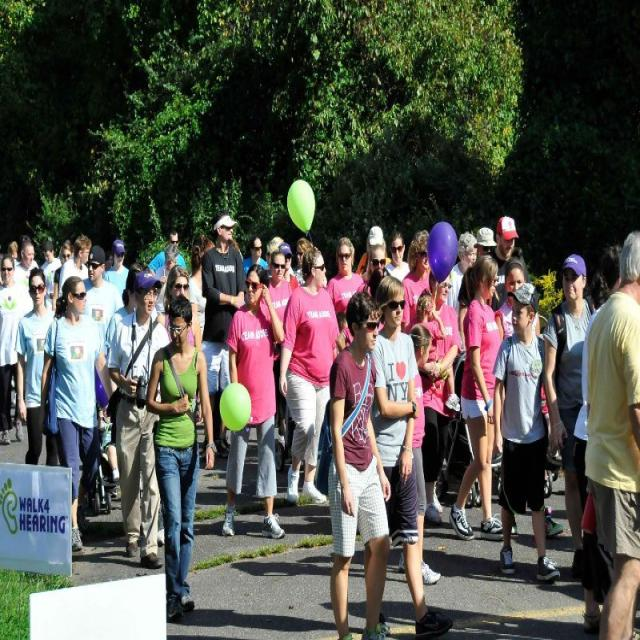body: (0, 485, 639, 640), (364, 275, 454, 639), (314, 288, 394, 640), (144, 293, 218, 622), (35, 272, 121, 554), (584, 228, 640, 640), (490, 278, 563, 590), (102, 265, 176, 570), (570, 241, 625, 640), (493, 243, 565, 539), (219, 258, 289, 542), (446, 251, 512, 546), (541, 253, 600, 582), (275, 240, 343, 506), (2, 222, 135, 318), (397, 322, 444, 587), (200, 209, 248, 458), (419, 265, 462, 527), (201, 387, 320, 476), (39, 372, 122, 496), (12, 265, 60, 470), (178, 211, 248, 314), (259, 214, 335, 302), (266, 249, 295, 458), (0, 250, 30, 446), (416, 287, 462, 413), (457, 225, 498, 352), (84, 243, 125, 357), (443, 228, 480, 352), (486, 213, 531, 312), (156, 264, 202, 353), (104, 264, 146, 359), (399, 229, 433, 335), (324, 235, 366, 313), (10, 237, 41, 317), (58, 233, 92, 300), (187, 242, 209, 342), (146, 226, 188, 278), (354, 224, 394, 276), (240, 234, 270, 292), (355, 242, 387, 296), (102, 238, 130, 298), (52, 239, 74, 312), (40, 240, 63, 305), (385, 228, 411, 282), (586, 264, 612, 315), (361, 264, 392, 300), (154, 241, 180, 282), (331, 304, 353, 349), (135, 257, 159, 283)
